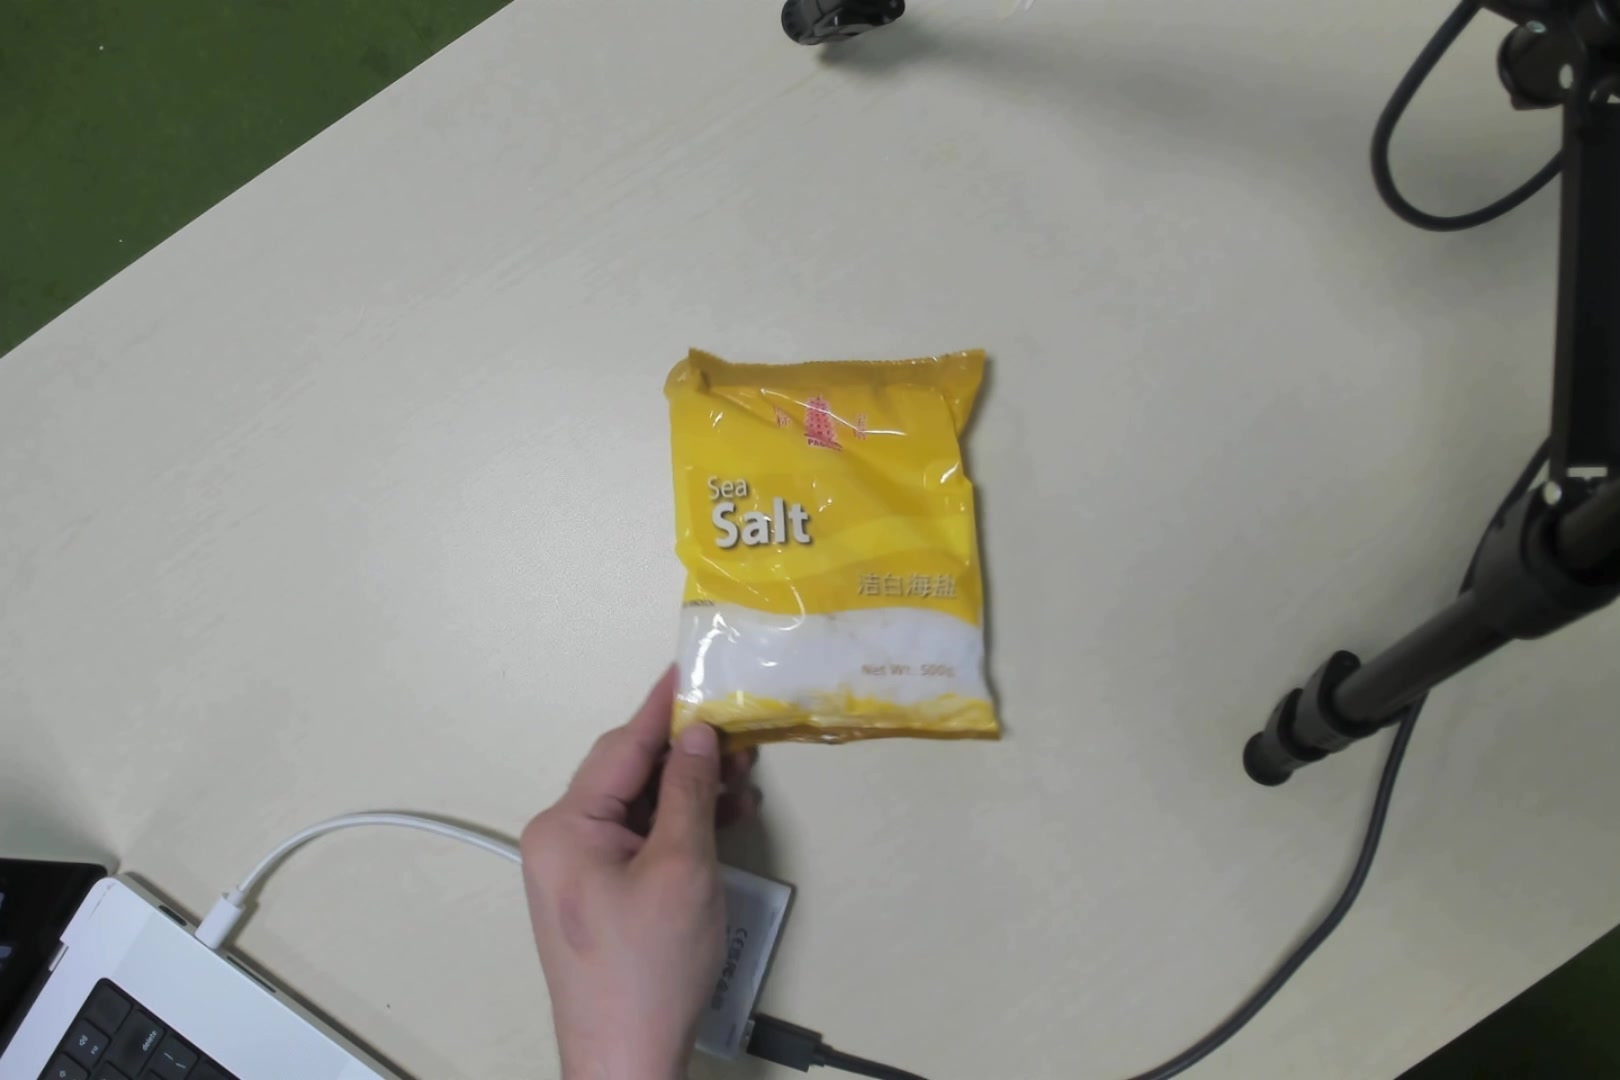Salt_500-599g_Halal_NonHealthy: (670, 363, 1004, 740)
